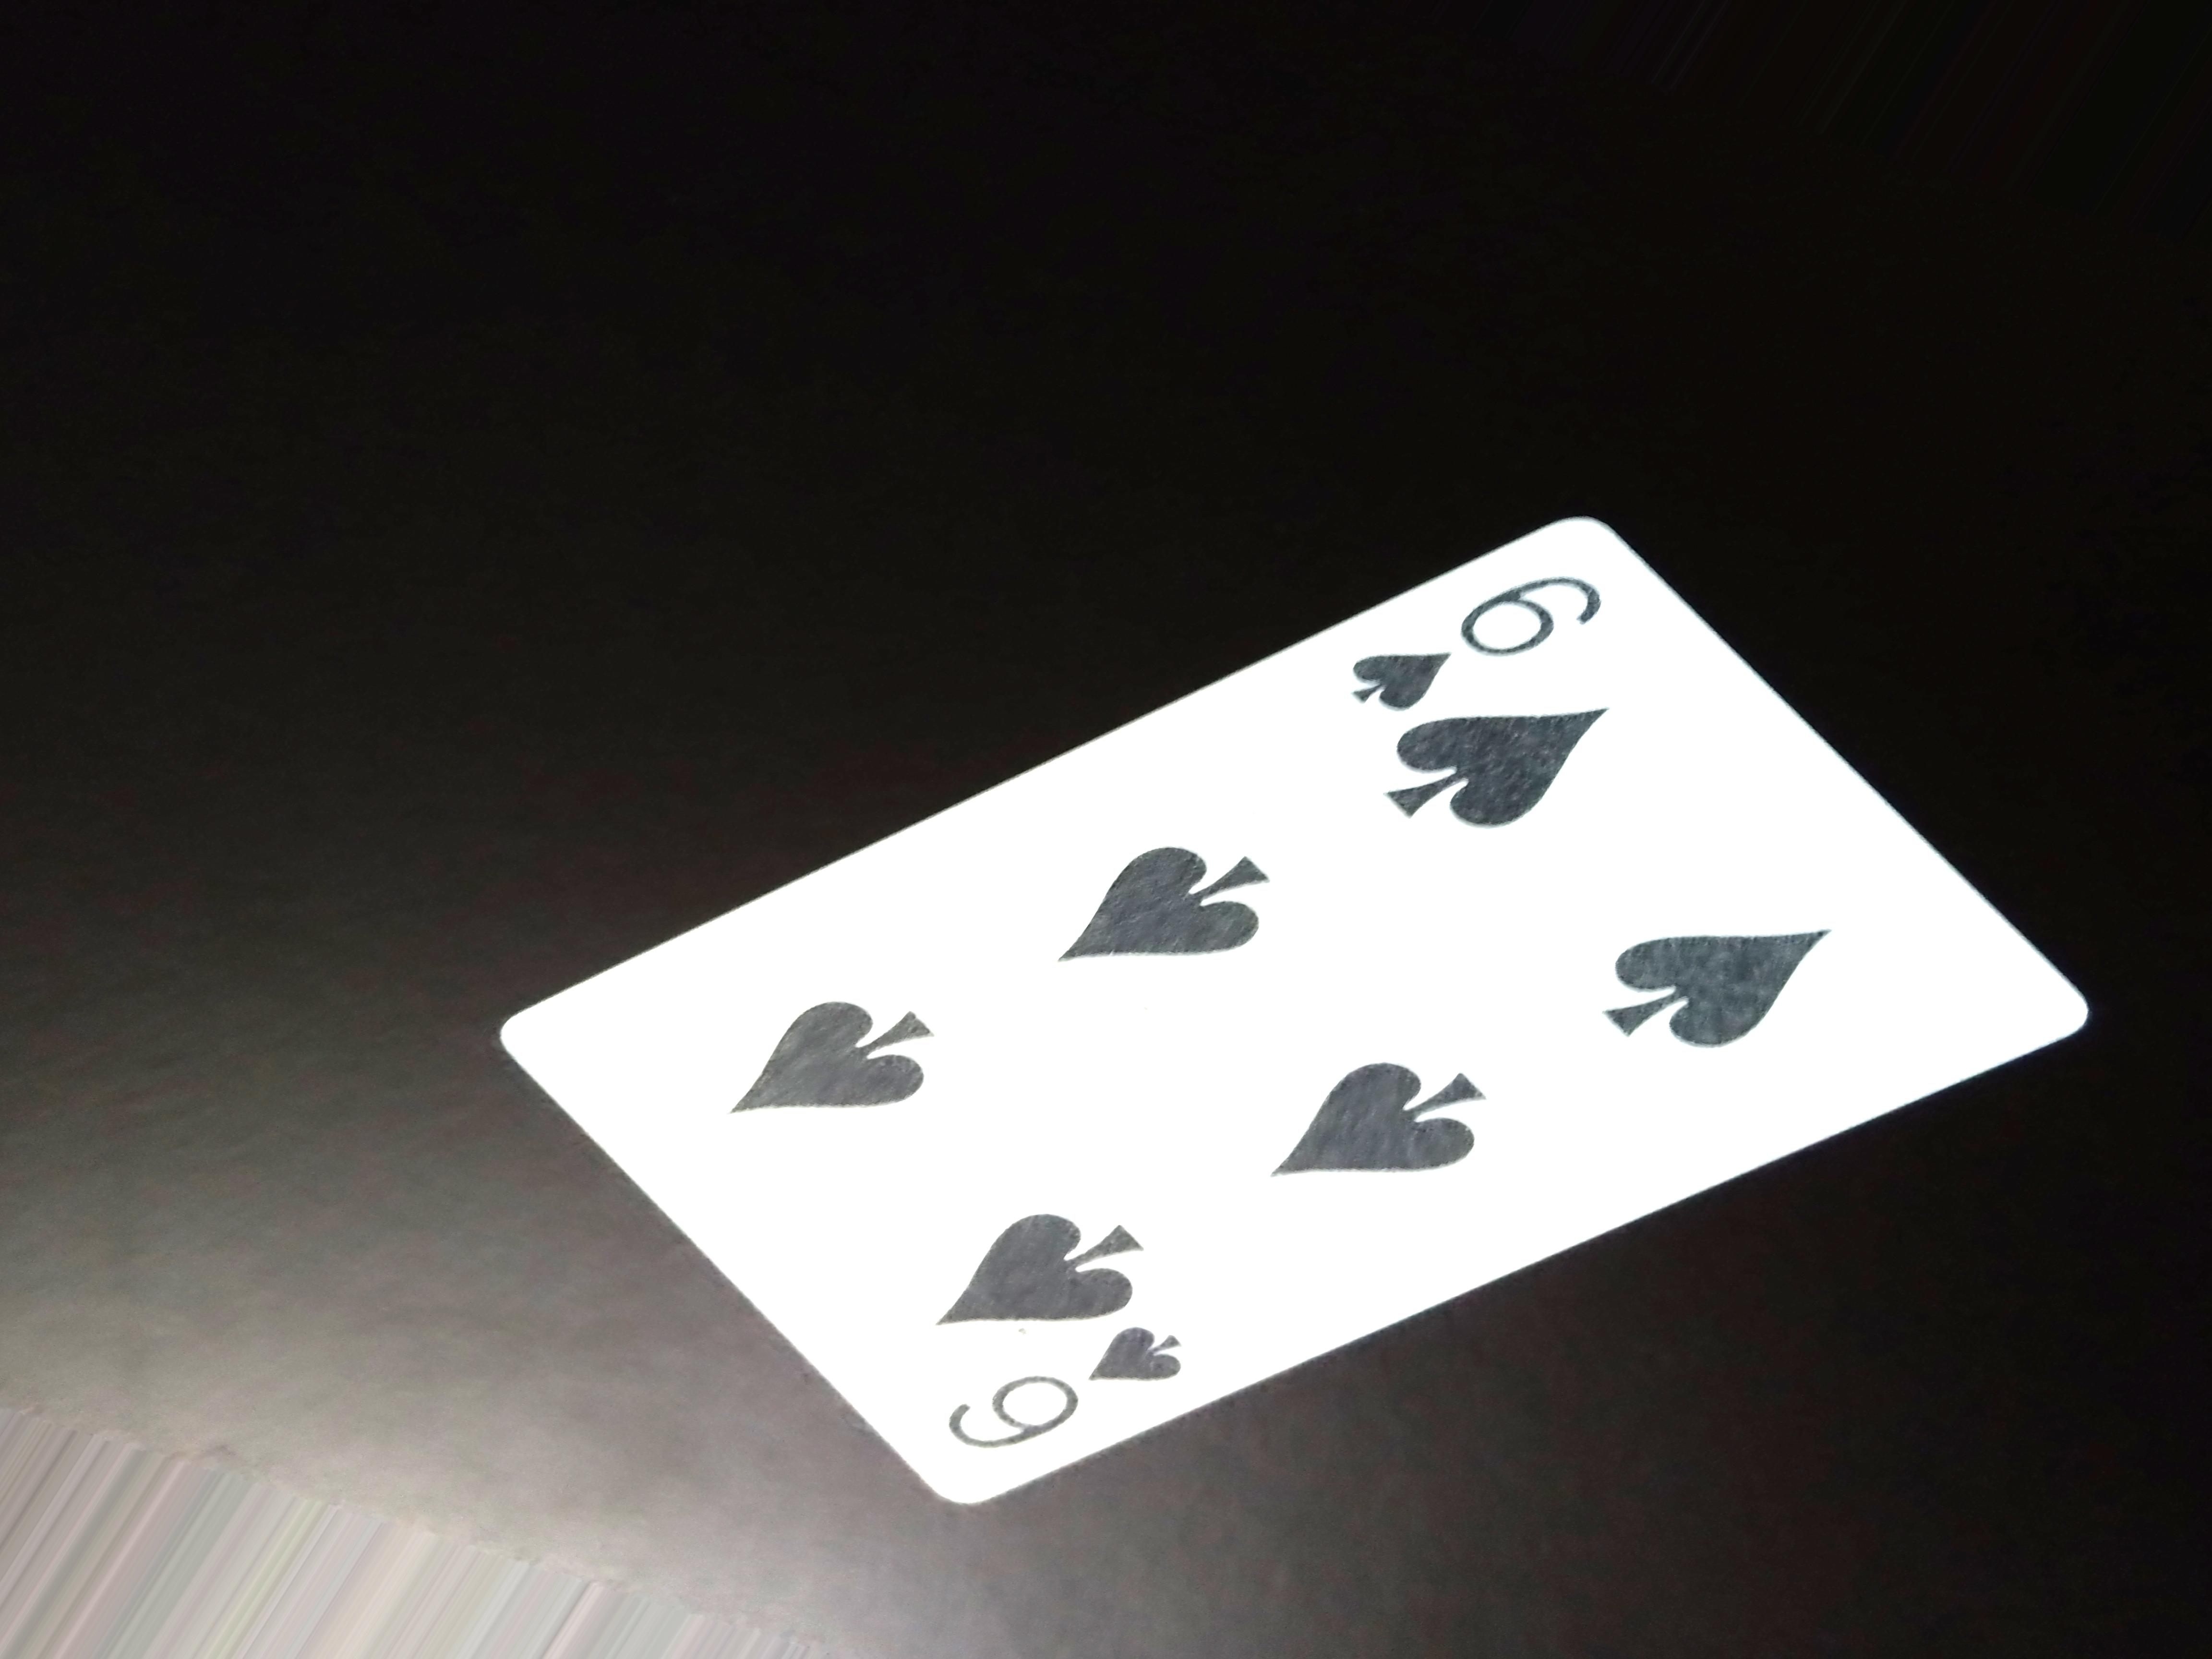6S: (925, 1328, 1223, 1448)
